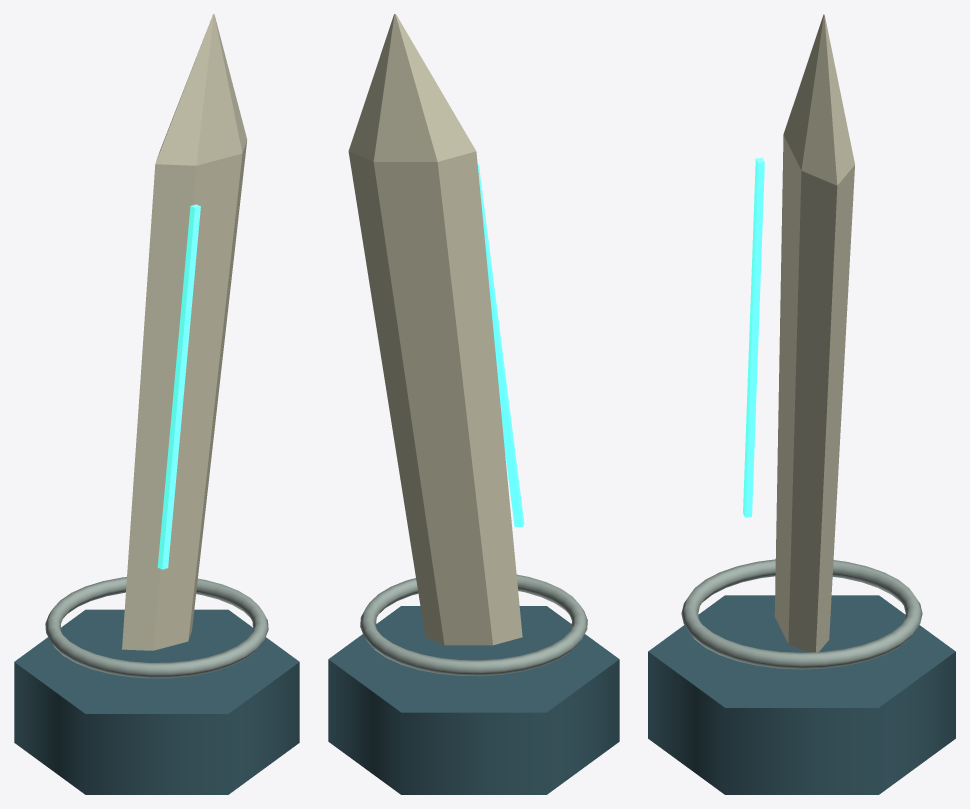
Rendered from memory-shard.glb.
3 views of the same model, side by side, from view 1: azimuth 30°, elevation 25°; view 2: azimuth 150°, elevation 25°; view 3: azimuth 270°, elevation 25° (orthographic). The views are drawn at different scales.
Visible parts, largest first — view 1: Vesper / memory-shard; view 2: Vesper / memory-shard; view 3: Vesper / memory-shard.
Part boxes in pixels (left/top/right/bottom): Vesper / memory-shard: left=14, top=14, right=299, bottom=794; Vesper / memory-shard: left=328, top=14, right=619, bottom=794; Vesper / memory-shard: left=648, top=14, right=955, bottom=794.
Size of the model in its own units: 0.8314 by 2.61 by 0.96.
